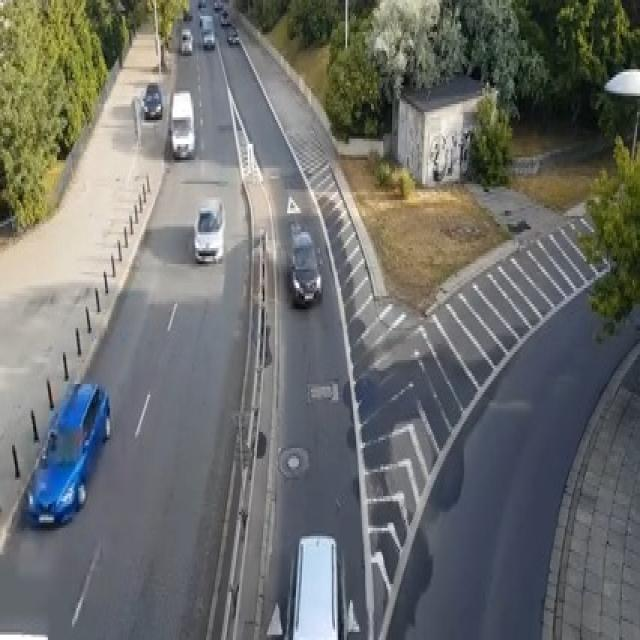car: (26, 379, 110, 525), (287, 224, 321, 307), (192, 198, 224, 262), (170, 88, 194, 157), (141, 83, 162, 117), (179, 27, 192, 53), (201, 29, 215, 48), (198, 13, 214, 27), (219, 8, 230, 24), (227, 29, 239, 43), (213, 0, 221, 11), (184, 8, 192, 19), (197, 0, 206, 8)
